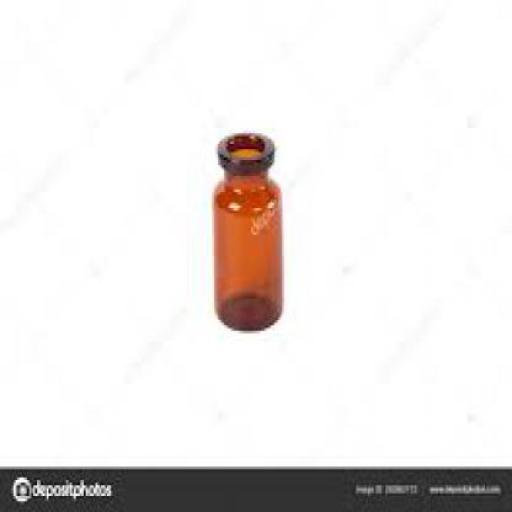glass: (210, 131, 282, 331)
